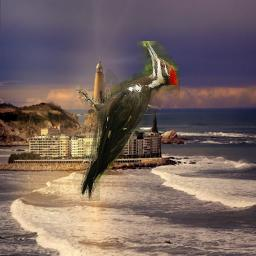Woodpecker: (72, 41, 180, 201)
